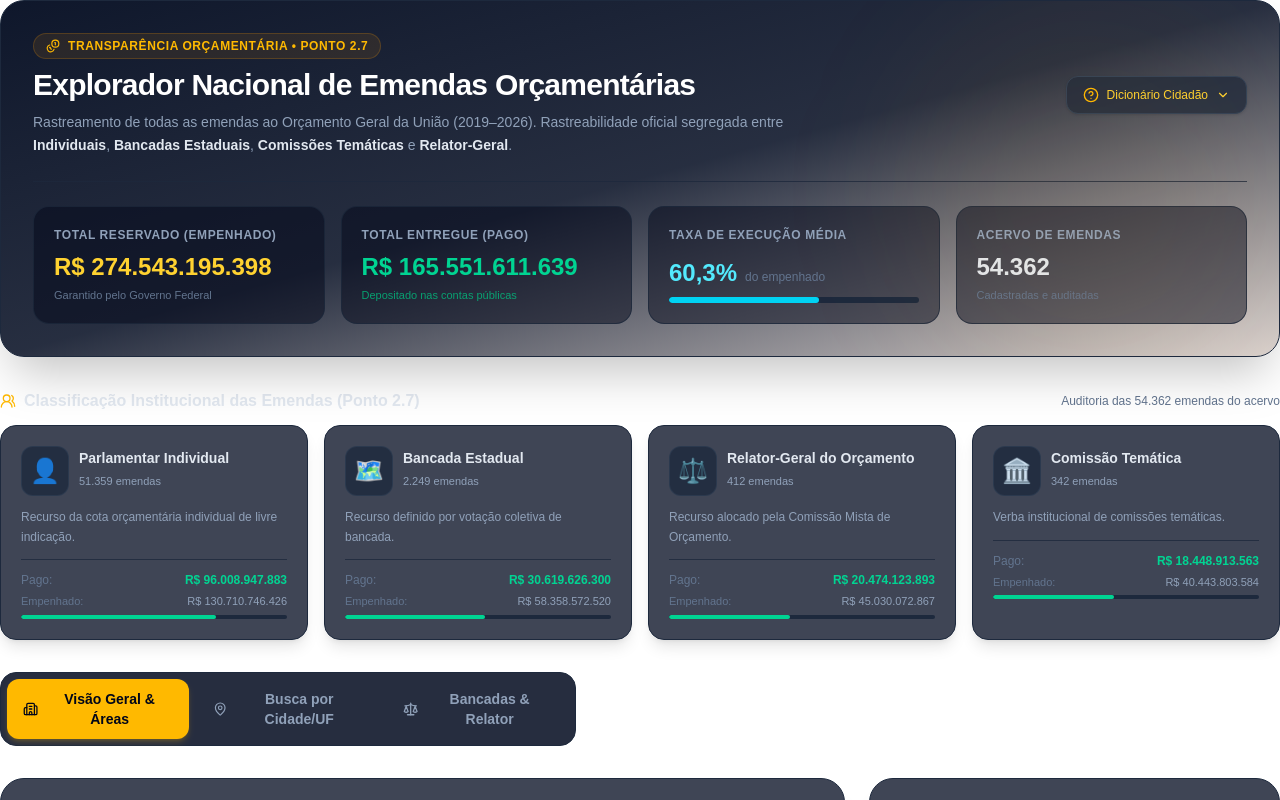
Test case: EmendasExplorerPanel › permite navegar para a aba de busca por cidade e exibe resultados locais
Expected: the heading "Explorador Nacional de Emendas Orçamentárias" is shown, [33,67,801,103]
Click the button "Busca por Cidade/UF": [288, 709] box [197,679,379,739]
(page scrolled)
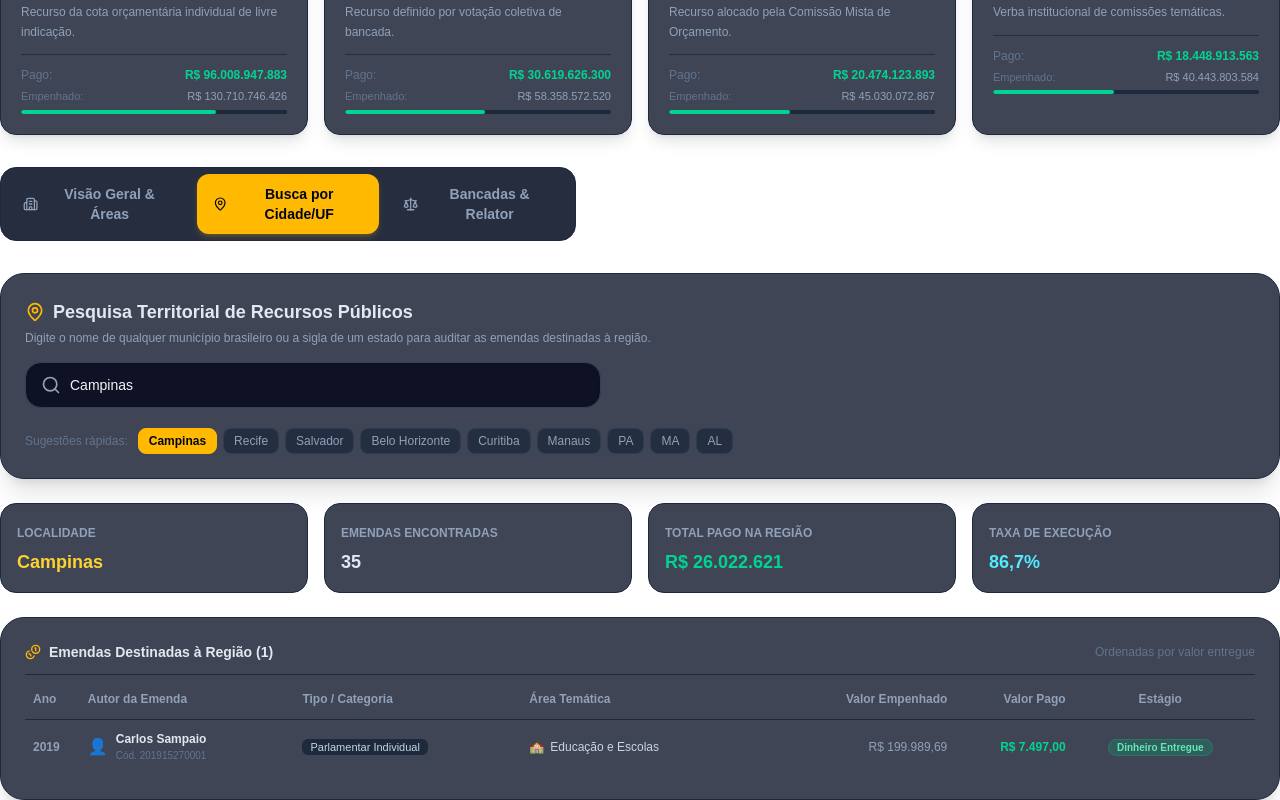
Expected: the text "Pesquisa Territorial de Recursos Públicos" is shown, [53,298,413,326]
Expected: the text "Carlos Sampaio" is shown, [116,732,206,747]
Expected: the text "Cód. 201915270001" is shown, [116,750,206,761]
